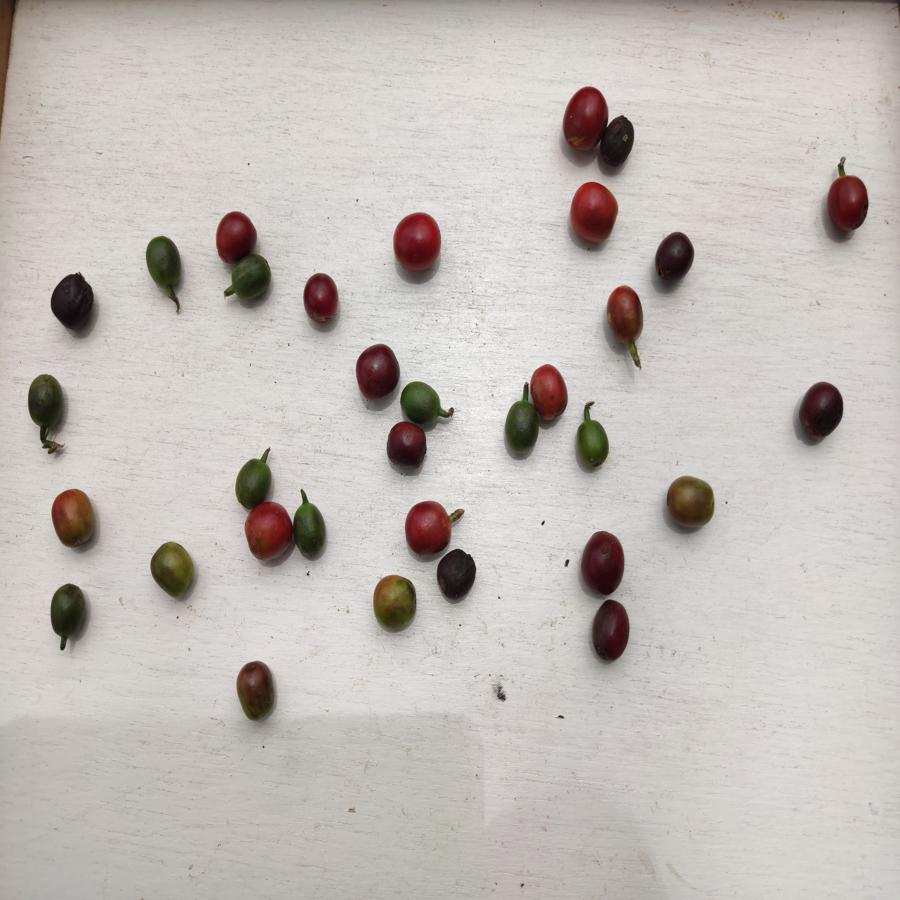Inmaduro: (25, 373, 67, 433), (46, 585, 88, 641), (143, 233, 185, 287), (292, 501, 331, 559), (572, 419, 614, 468), (400, 383, 446, 426), (503, 401, 540, 454), (229, 257, 272, 302), (234, 459, 271, 507)
Maduro: (821, 173, 870, 240), (569, 181, 618, 244), (393, 214, 443, 275), (563, 82, 600, 162), (242, 504, 292, 562), (404, 502, 450, 555), (533, 364, 569, 421), (215, 211, 257, 259)
Pinton: (46, 486, 101, 547), (663, 472, 719, 530), (233, 659, 278, 722), (372, 575, 420, 631), (148, 540, 194, 597), (603, 286, 648, 342)
Sobremaduro: (49, 270, 96, 333), (579, 530, 623, 595), (798, 381, 843, 441), (590, 598, 631, 663), (355, 342, 401, 398), (434, 550, 476, 604), (655, 229, 695, 285), (598, 115, 638, 169), (301, 270, 341, 321), (385, 420, 429, 466)
